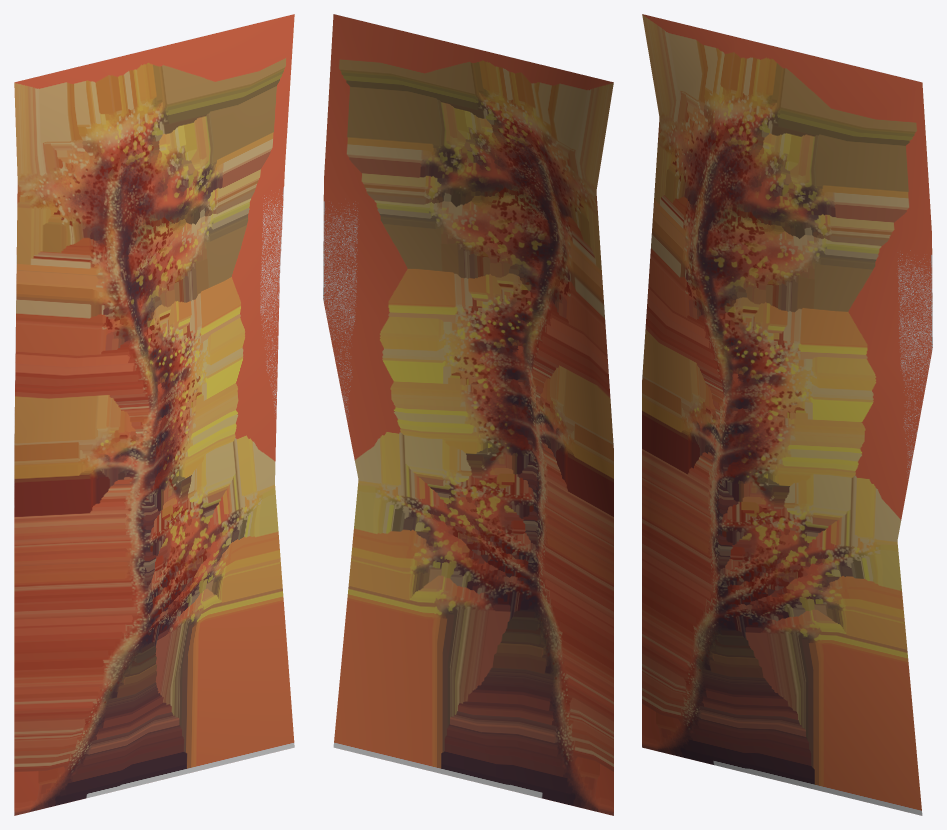
Rendered from soft coralsinfle.fbx.
3 renders of one model, left to right at view 1: azimuth 30°, elevation 25°; view 2: azimuth 150°, elevation 25°; view 3: azimuth 330°, elevation 25°, orthographic.
Parts seen in each view (by area): view 1: Plane.004; view 2: Plane.004; view 3: Plane.004.
Boxes of the visible parts, bbox=[...] form: Plane.004: bbox=[14, 14, 294, 815]; Plane.004: bbox=[323, 14, 613, 815]; Plane.004: bbox=[642, 14, 932, 815].
Bounding box in the file's own units: 80 × 200 × 20.09.
Materials: 1 (1 with a texture image).
